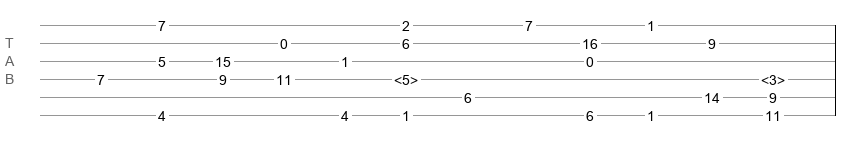0: (280, 36, 288, 46), (586, 54, 594, 64)
1: (341, 54, 349, 64), (402, 108, 410, 118), (647, 108, 655, 118), (647, 18, 655, 28)
11: (276, 72, 292, 82), (765, 108, 781, 118)
14: (704, 90, 720, 100)
15: (215, 54, 231, 64)
16: (582, 36, 598, 46)
2: (402, 18, 410, 28)
4: (158, 108, 166, 118), (341, 108, 349, 118)
5: (158, 54, 166, 64)
6: (402, 36, 410, 46), (464, 90, 472, 100), (586, 108, 594, 118)
7: (97, 72, 105, 82), (158, 18, 166, 28), (525, 18, 533, 28)
9: (219, 72, 227, 82), (708, 36, 716, 46), (769, 90, 777, 100)
harmonic: (394, 72, 418, 82), (761, 72, 785, 82)
